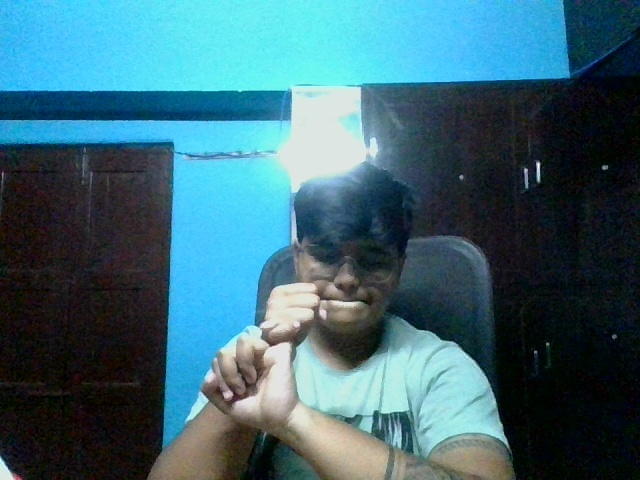S: (184, 279, 329, 446)
